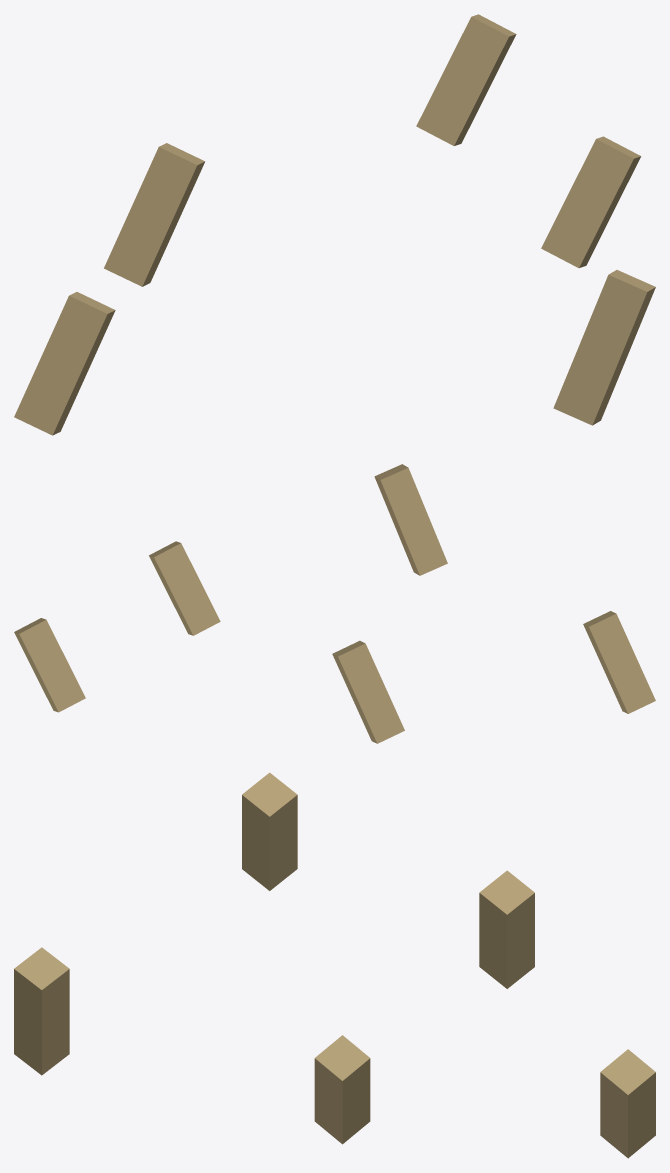
File: crop_pea_dormant.glb
The picture shows the model from 3 angles, top to bottom: view 1: azimuth 30°, elevation 25°; view 2: azimuth 150°, elevation 25°; view 3: azimuth 270°, elevation 25°; orthographic projection. The views are drawn at different scales.
Parts seen in each view (by area): view 1: crop_pea_dormant; view 2: crop_pea_dormant; view 3: crop_pea_dormant.
Boxes of the visible parts, <box> form: crop_pea_dormant: <box>14,14,655,435</box>; crop_pea_dormant: <box>14,464,655,743</box>; crop_pea_dormant: <box>14,772,655,1158</box>.
Size of the model in its own units: 0.3174 by 0.0635 by 0.2765.
